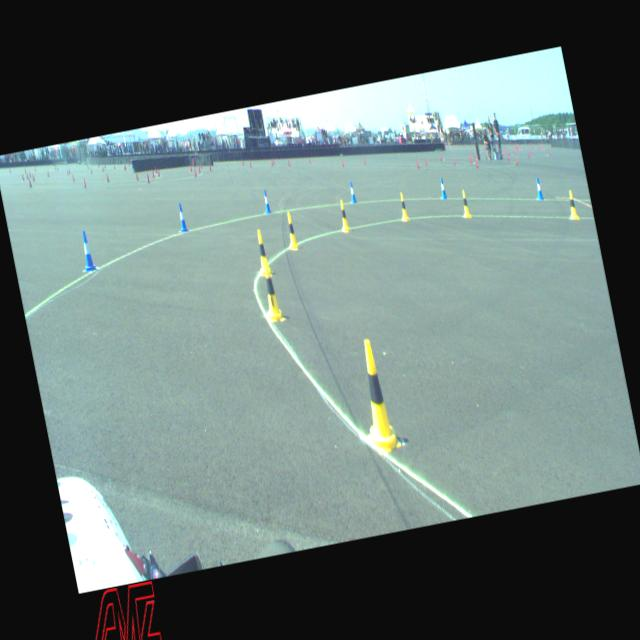blue_cone: (78, 230, 96, 272), (176, 202, 189, 234), (262, 188, 272, 214), (534, 177, 544, 201), (347, 180, 357, 204), (438, 177, 447, 200)
yellow_cone: (348, 337, 402, 457), (257, 260, 284, 322), (252, 228, 274, 276), (282, 210, 300, 250), (336, 198, 351, 232), (565, 190, 579, 220), (459, 188, 472, 219), (397, 192, 410, 222)
